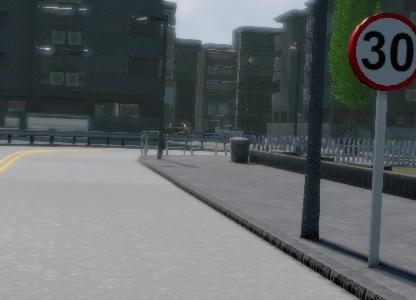Speed_30: (345, 10, 416, 93)
